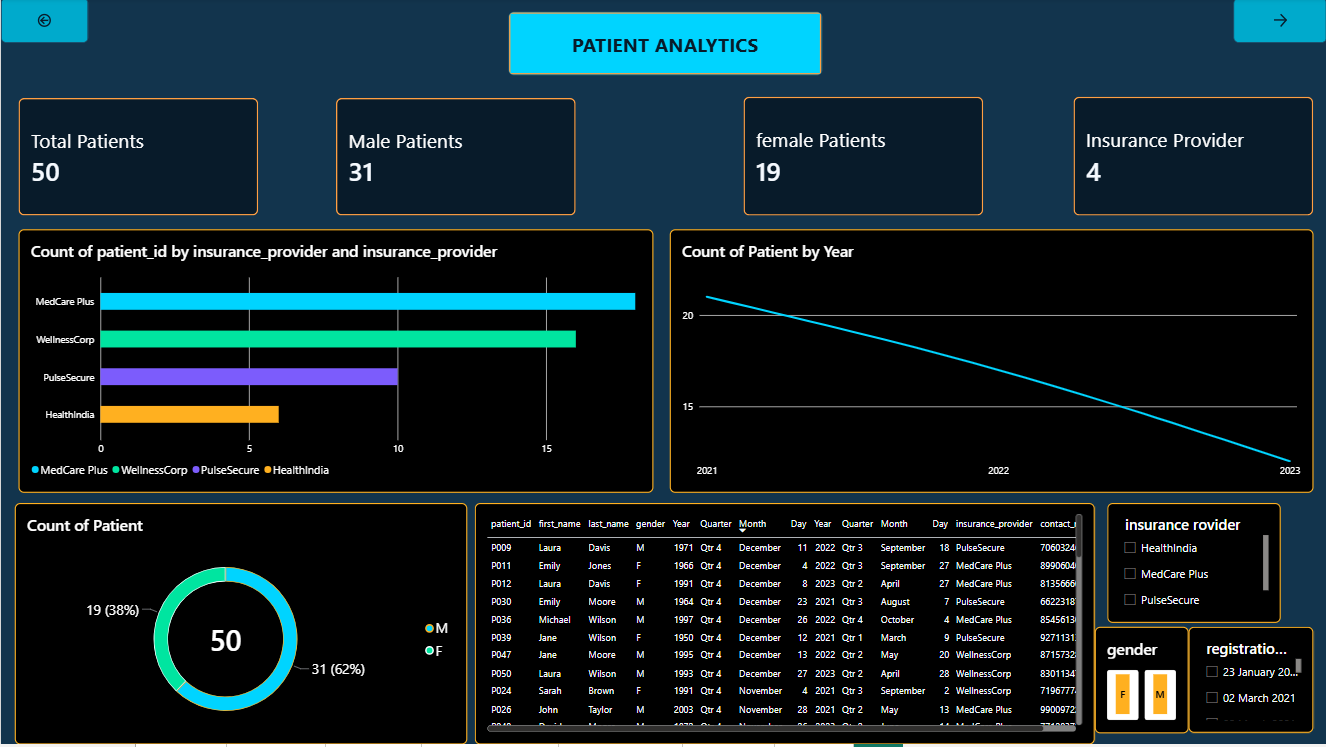

The page's visual inventory and layout, read from the dashboard file:
{"tool":"powerbi","page":{"name":"Patient","canvas":[1920,1080],"ordinal":1},"visuals":[{"type":"shape","box":[735,20,454,92],"z":0},{"type":"barChart","fields":{"Category":["healthcare_db patients.insurance_provider"],"Series":["healthcare_db patients.insurance_provider"],"Y":["CountNonNull(healthcare_db patients.patient_id)"]},"box":[25.3,334.8,919.3,381.8],"z":1000},{"type":"cardVisual","fields":{"Data":["Count(healthcare_db patients.patient_id)"]},"box":[25.3,144.8,347.5,170],"z":2000},{"type":"lineChart","fields":{"Category":["healthcare_db patients.registration_date.Variation.Date Hierarchy.Year"],"Y":["CountNonNull(healthcare_db patients.patient_id)"]},"box":[968.2,334.8,932,381.8],"z":3000},{"type":"tableEx","fields":{"Values":["healthcare_db patients.patient_id","healthcare_db patients.first_name","healthcare_db patients.last_name","healthcare_db patients.gender","healthcare_db patients.date_of_birth.Variation.Date Hierarchy.Year","healthcare_db patients.date_of_birth.Variation.Date Hierarchy.Quarter","healthcare_db patients.date_of_birth.Variation.Date Hierarchy.Month","healthcare_db patients.date_of_birth.Variation.Date Hierarchy.Day","healthcare_db patients.registration_date.Variation.Date Hierarchy.Year","healthcare_db patients.registration_date.Variation.Date Hierarchy.Quarter","healthcare_db patients.registration_date.Variation.Date Hierarchy.Month","healthcare_db patients.registration_date.Variation.Date Hierarchy.Day"]},"box":[685.9,731.1,897.6,349.3],"z":4000},{"type":"actionButton","box":[0,0,126.7,65],"z":5000},{"type":"cardVisual","fields":{"Data":["Count(healthcare_db patients.patient_id)"]},"box":[485,144.8,347.5,170],"z":6000},{"type":"cardVisual","fields":{"Data":["Count(healthcare_db patients.patient_id)"]},"box":[1074.9,143,347.5,172.5],"z":7000},{"type":"cardVisual","fields":{"Data":["Count(healthcare_db patients.insurance_provider)"]},"box":[1552.7,143,347.5,172.5],"z":8000},{"type":"donutChart","title":"Count of Patient","fields":{"Category":["healthcare_db patients.gender"],"Y":["CountNonNull(healthcare_db patients.patient_id)"]},"box":[19.9,731.1,655.1,349.3],"z":9000},{"type":"advancedSlicerVisual","fields":{"Values":["healthcare_db patients.gender"]},"box":[1583.5,910.3,136,154],"z":10000},{"type":"slicer","fields":{"Values":["healthcare_db patients.registration_date"]},"box":[1719.2,910.3,181,153.8],"z":11000},{"type":"actionButton","box":[1785,0,135,65],"z":12000},{"type":"slicer","fields":{"Values":["healthcare_db patients.insurance_provider"]},"box":[1601.5,731.1,251.5,173.7],"z":13000}]}

Visuals, with their boxes in screenshot pixels (x1, y1, x2, y2), scaled from the page's 1920x1080 canvas onto the 1326x747 screenshot:
shape: x1=508, y1=14, x2=821, y2=77
barChart - healthcare_db patients.insurance_provider x healthcare_db patients.insurance_provider: x1=17, y1=232, x2=652, y2=496
cardVisual - Count(healthcare_db patients.patient_id): x1=17, y1=100, x2=257, y2=218
lineChart - healthcare_db patients.registration_date.Variation.Date Hierarchy.Year x CountNonNull(healthcare_db patients.patient_id): x1=669, y1=232, x2=1312, y2=496
tableEx - healthcare_db patients.patient_id x healthcare_db patients.first_name: x1=474, y1=506, x2=1094, y2=746
actionButton: x1=0, y1=0, x2=88, y2=45
cardVisual - Count(healthcare_db patients.patient_id): x1=335, y1=100, x2=575, y2=218
cardVisual - Count(healthcare_db patients.patient_id): x1=742, y1=99, x2=982, y2=218
cardVisual - Count(healthcare_db patients.insurance_provider): x1=1072, y1=99, x2=1312, y2=218
"Count of Patient" donutChart: x1=14, y1=506, x2=466, y2=746
advancedSlicerVisual - healthcare_db patients.gender: x1=1094, y1=630, x2=1188, y2=736
slicer - healthcare_db patients.registration_date: x1=1187, y1=630, x2=1312, y2=736
actionButton: x1=1233, y1=0, x2=1325, y2=45
slicer - healthcare_db patients.insurance_provider: x1=1106, y1=506, x2=1280, y2=626
